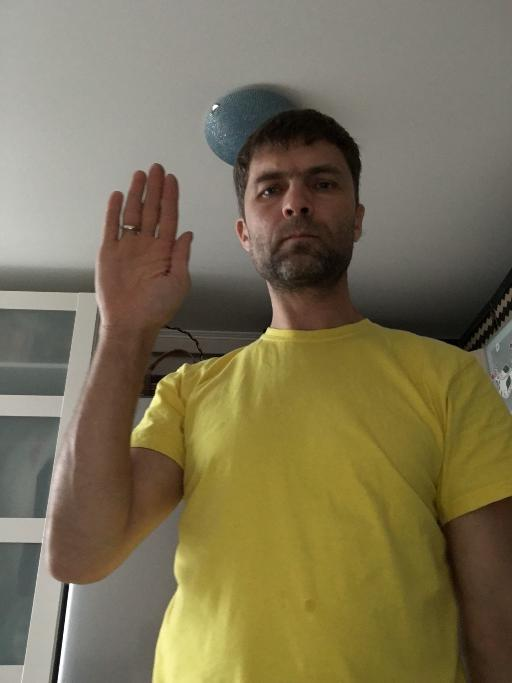stop: (93, 158, 195, 337)
